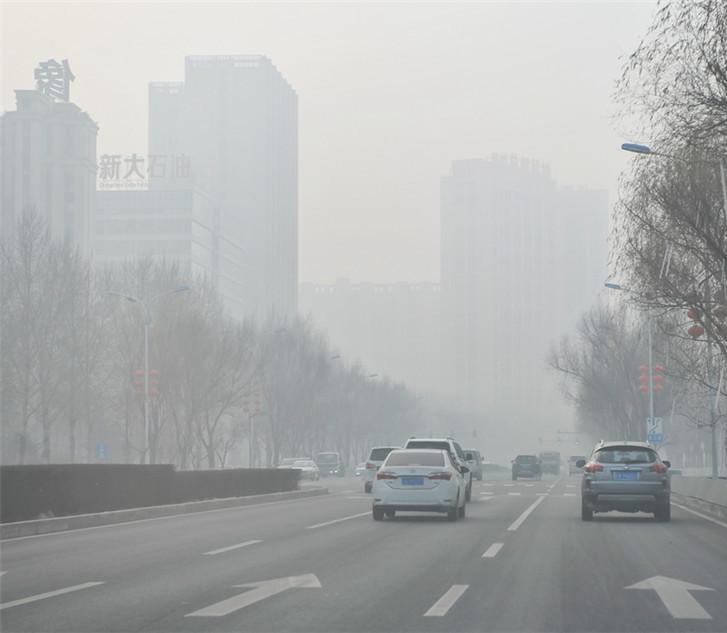car: (575, 439, 671, 522), (370, 445, 470, 518), (401, 435, 472, 502), (363, 446, 407, 493), (510, 453, 544, 482), (457, 447, 485, 480), (290, 460, 320, 480), (538, 450, 561, 476), (276, 457, 303, 476), (567, 454, 587, 477)
